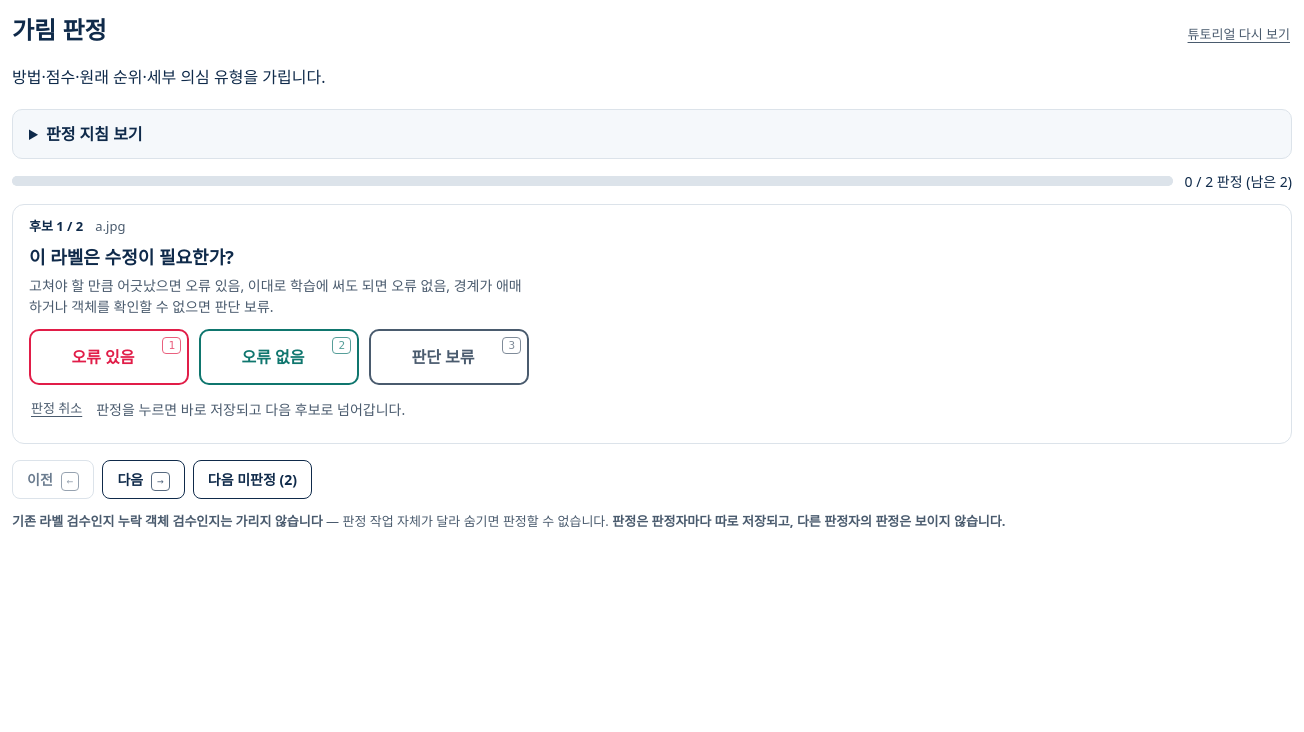
Test case: 선택 표시 › 고른 판정만 aria-pressed가 참이고, 판정 취소하면 모두 거짓이다
This screenshot has width=1304, height=732.
Check: the text "a.jpg" is shown, box top-left (95, 216), bottom-right (125, 236)
Click the button "오류 없음".
click(279, 357)  # box top-left (199, 329), bottom-right (359, 385)
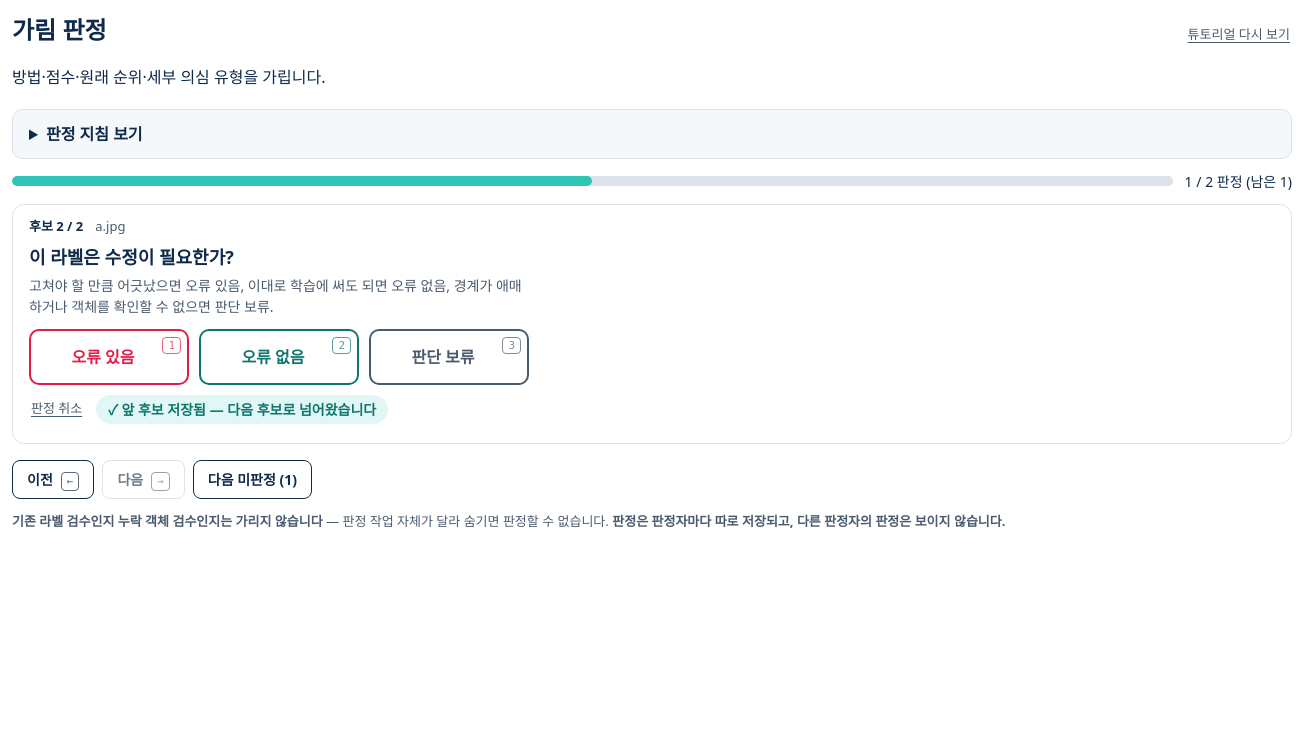
Check: the text "앞 후보 저장됨 — 다음 후보로 넘어왔습니다" is shown, box top-left (96, 394), bottom-right (388, 424)
Press ArrowLeft
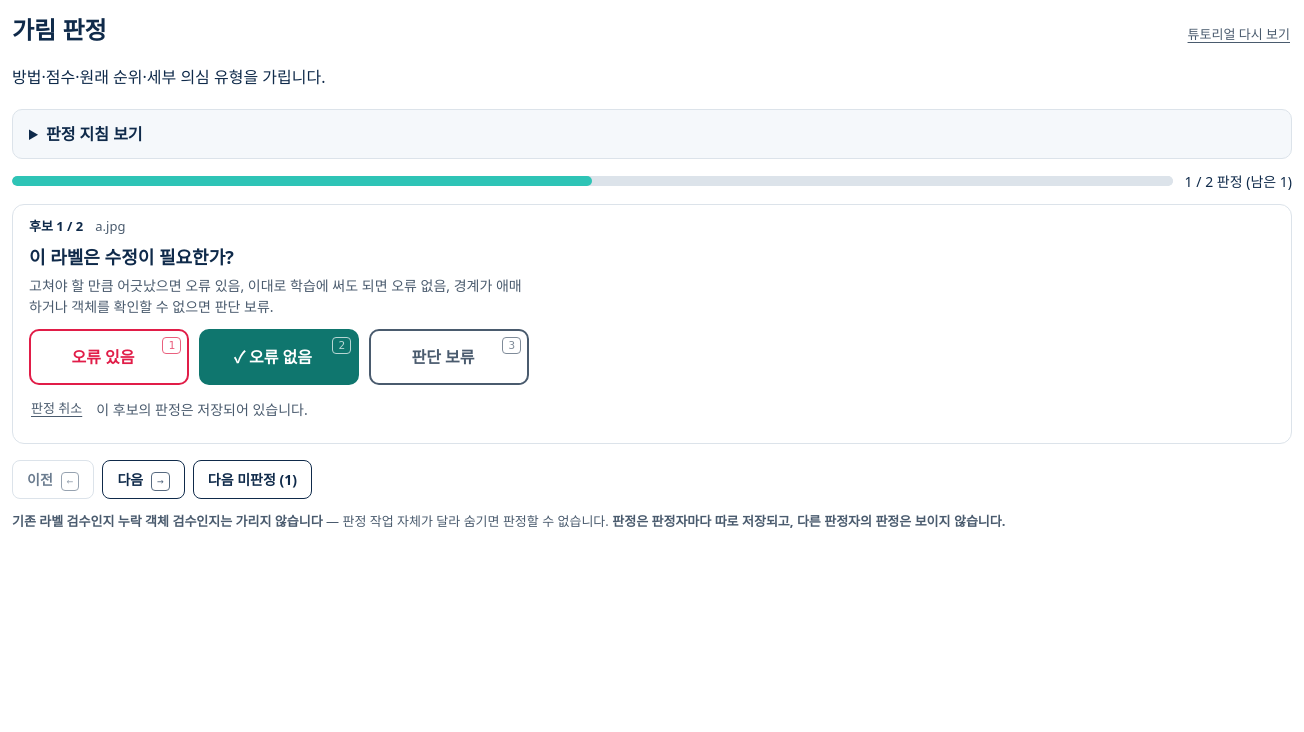
Check: the button "오류 없음" is pressed, box top-left (199, 329), bottom-right (359, 385)
Click the button "판정 취소".
click(57, 409)  # box top-left (29, 395), bottom-right (84, 423)
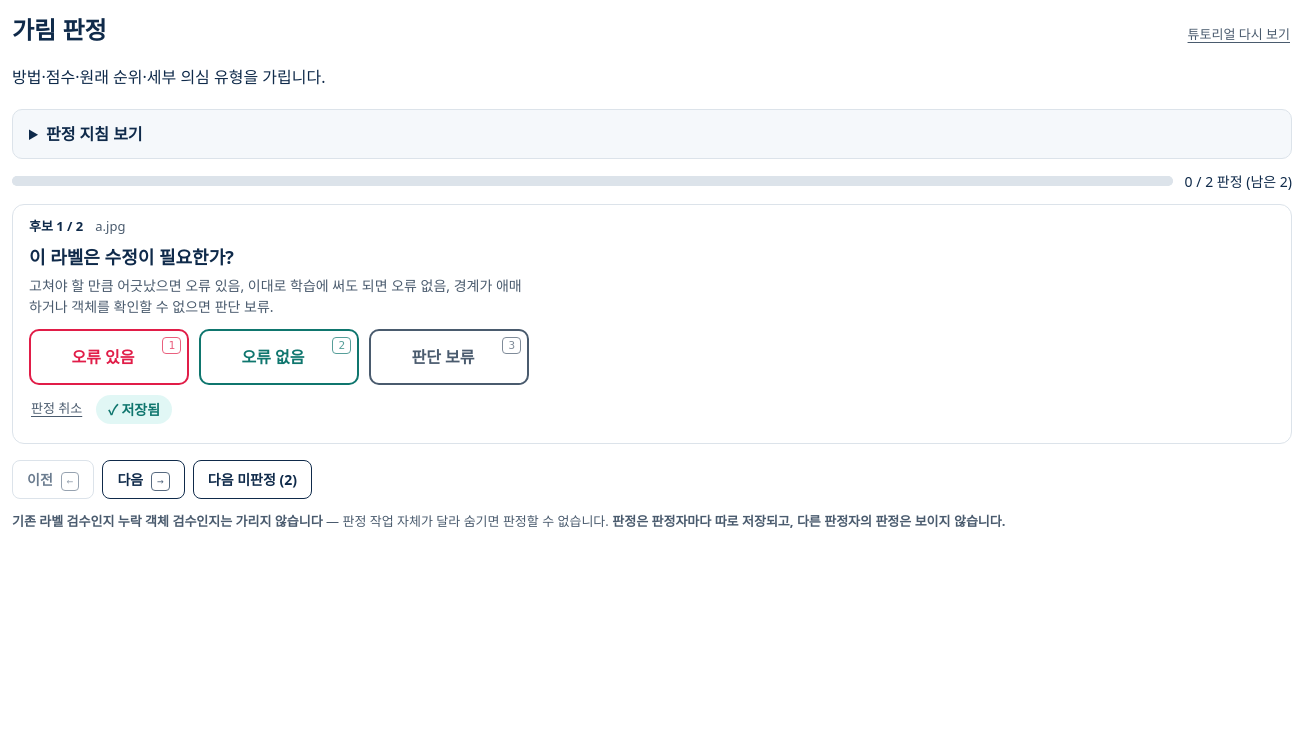
Check: the text "후보 1 / 2" is shown, box top-left (29, 216), bottom-right (83, 236)
Check: the text "저장됨" is shown, box top-left (96, 394), bottom-right (172, 424)
